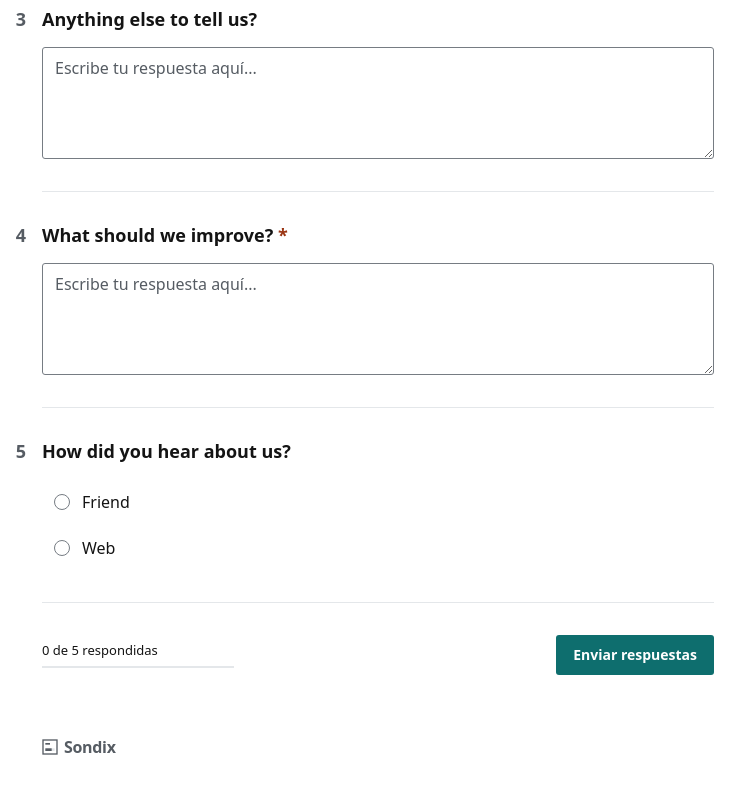
Test: SurveyAnsweringPage (REQ-FE-023, REQ-FE-024, REQ-FE-034) › AC-FE-023-2: an empty required question shows the error under it, focus moves to it and no request is sent
(page scrolled)
What coordinates should you click on to do the following:
click the button "Enviar respuestas"
I would click on:
 (635, 655)
Its box is [556,635,714,675].
(page scrolled)
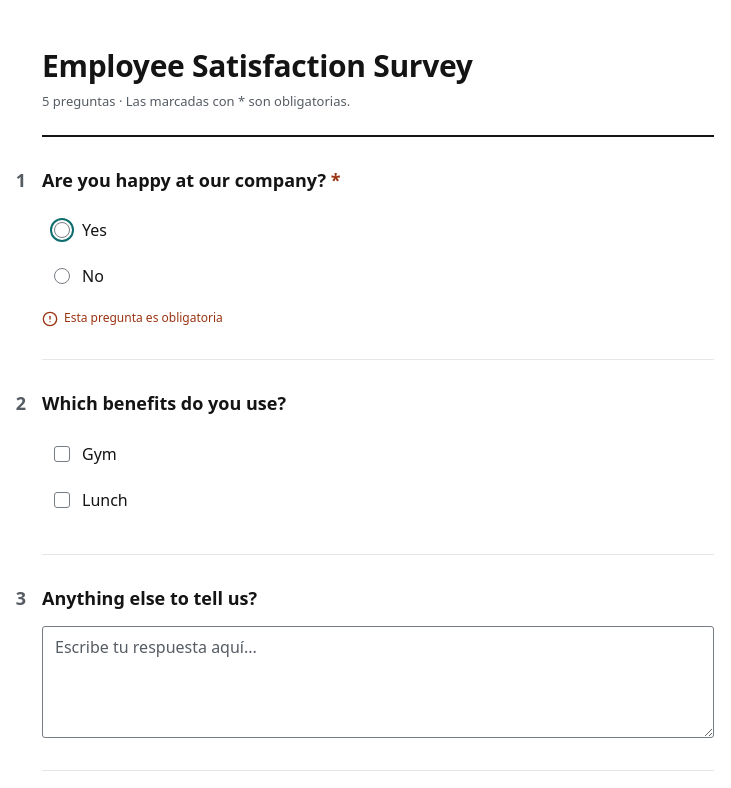
Result: the text "Esta pregunta es obligatoria" is shown 2 times
